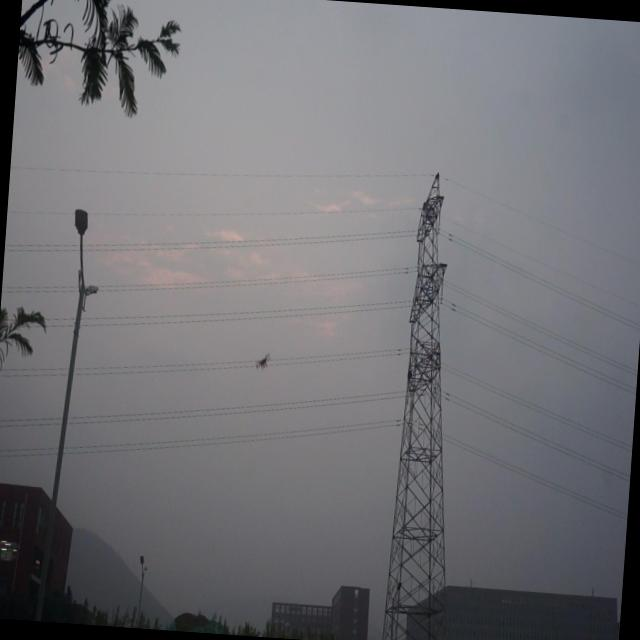drone: (252, 354, 270, 372)
